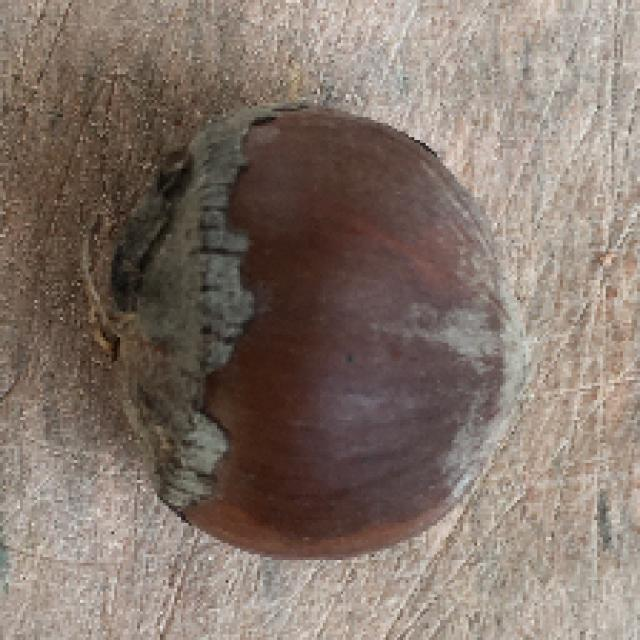damagedHazelnut: (109, 101, 540, 564)
